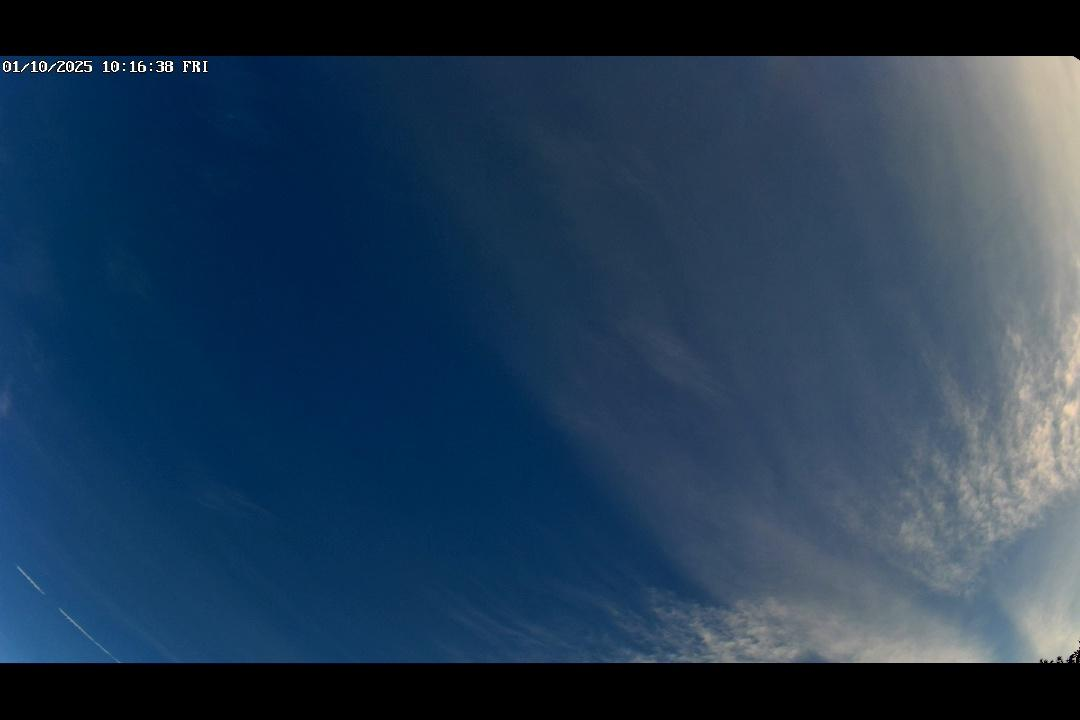Plane: (14, 563, 34, 583)
